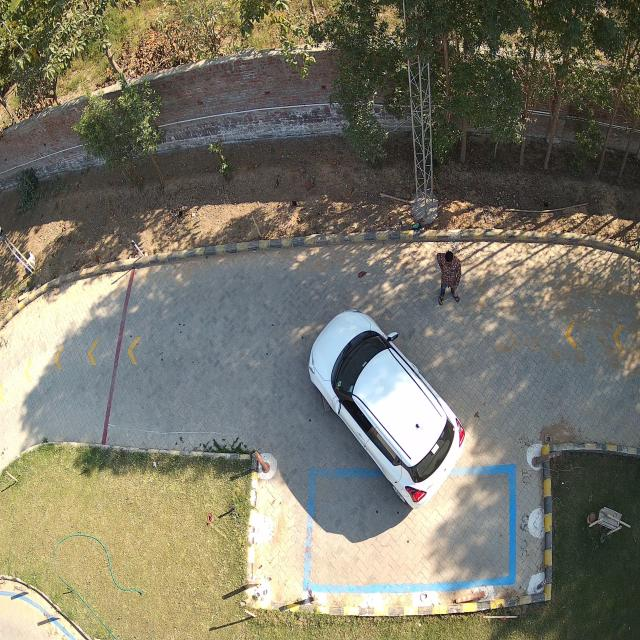car: (307, 312, 466, 508)
